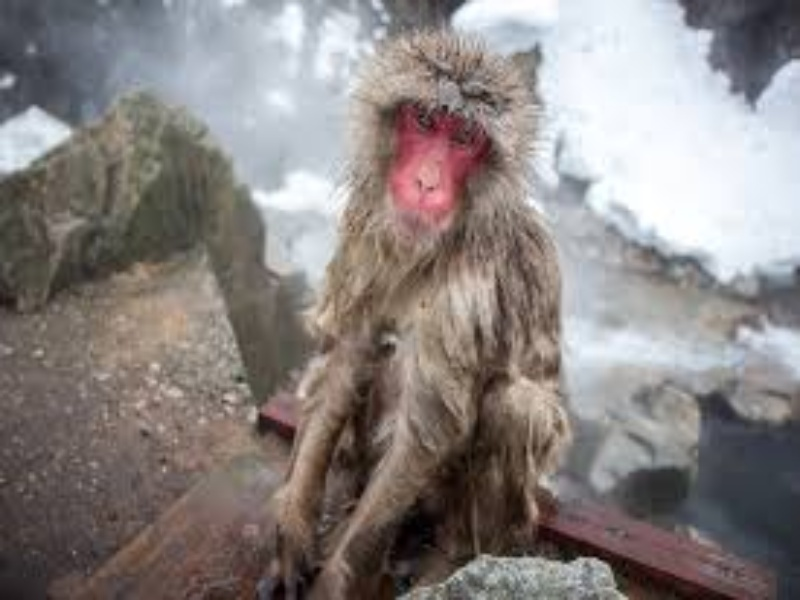monkey: (286, 29, 648, 600)
